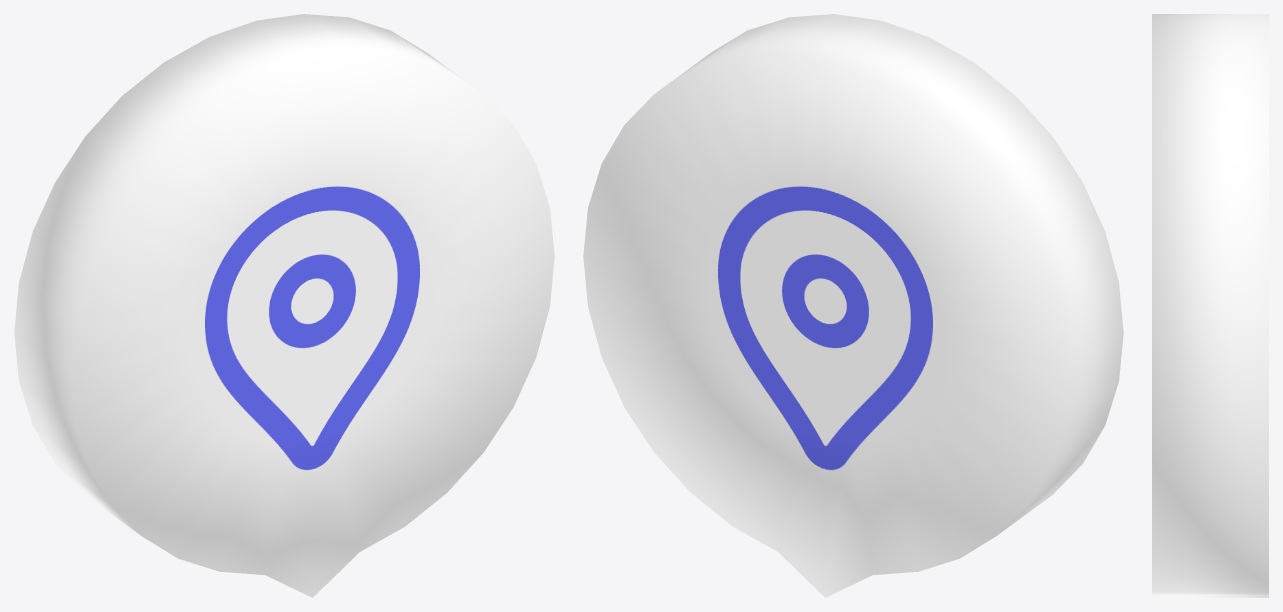
Rendered from node_path_s_4.glb.
3 renders of one model, left to right at view 1: azimuth 30°, elevation 25°; view 2: azimuth 150°, elevation 25°; view 3: azimuth 270°, elevation 25°, orthographic. The views are drawn at different scales.
Parts seen in each view (by area): view 1: 圓形.003; view 2: 圓形.003; view 3: 圓形.003.
Part boxes in pixels (bbox=[...]): 圓形.003: bbox=[14, 14, 554, 597]; 圓形.003: bbox=[583, 14, 1123, 597]; 圓形.003: bbox=[1152, 14, 1268, 597].
Bounding box in the file's own units: 0.4551 × 0.4815 × 0.0915.
Materials: 1 (1 with a texture image).
